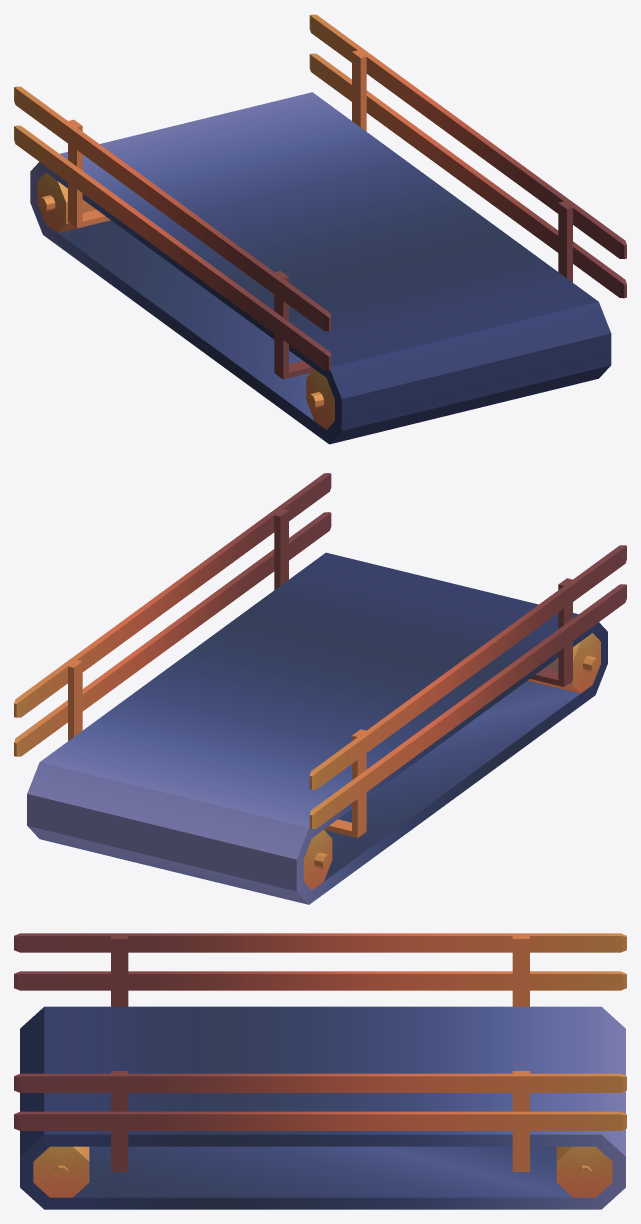
File: conveyor belt.fbx
The picture shows the model from 3 angles, top to bottom: view 1: azimuth 30°, elevation 25°; view 2: azimuth 150°, elevation 25°; view 3: azimuth 270°, elevation 25°; orthographic projection. The views are drawn at different scales.
Visible parts, largest first — view 1: polySurface17; view 2: polySurface17; view 3: polySurface17.
Boxes of the visible parts, box(x1,y1,x2,y2) form: polySurface17: box(14, 14, 626, 444); polySurface17: box(14, 473, 626, 904); polySurface17: box(14, 933, 626, 1209).
Size of the model in its own units: 0.5588 by 0.2547 by 1.01.
